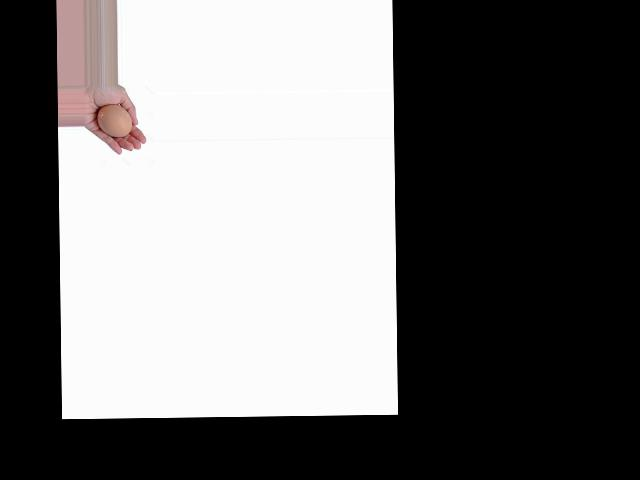egg: (97, 104, 132, 137)
